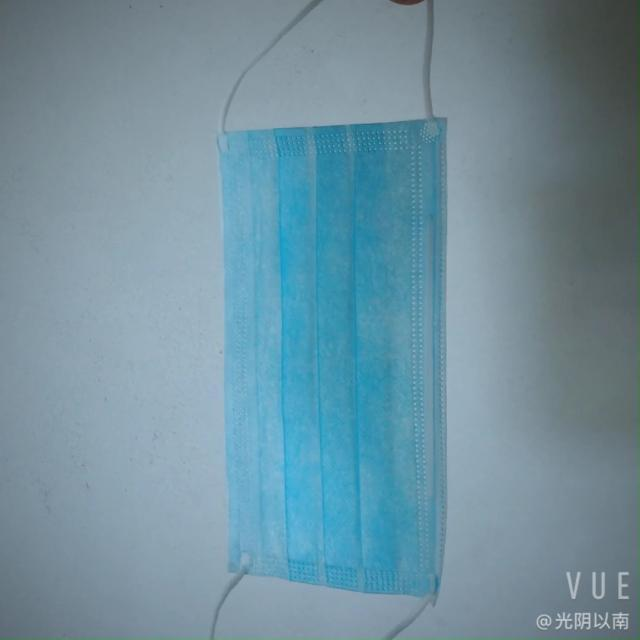face mask: (208, 111, 458, 584)
